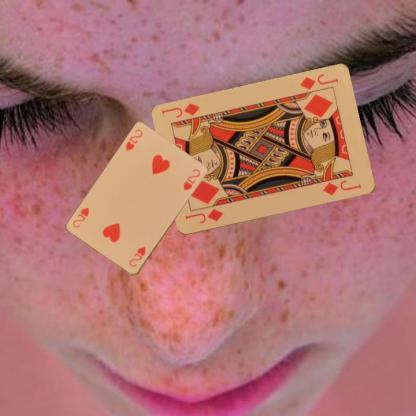2h: (123, 126, 144, 152), (126, 244, 146, 268)
Jd: (297, 72, 340, 91), (182, 207, 224, 226)
